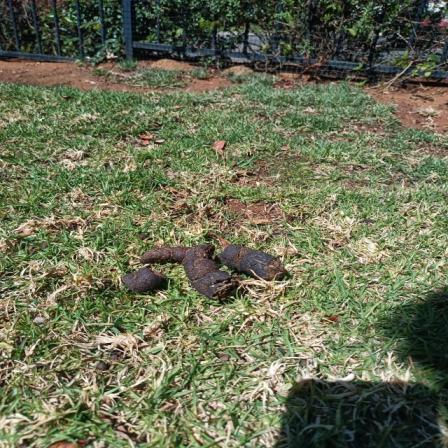dog-poop: (122, 239, 291, 308)
